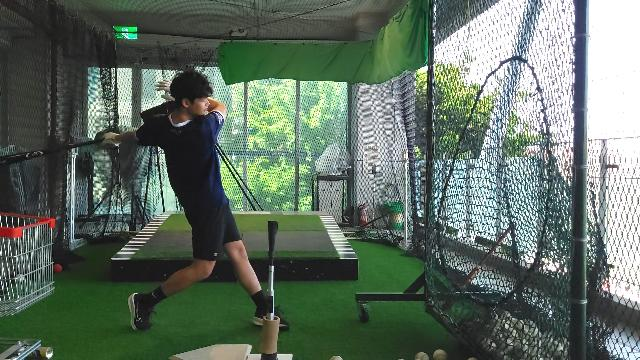baseball bat: (1, 137, 103, 165)
